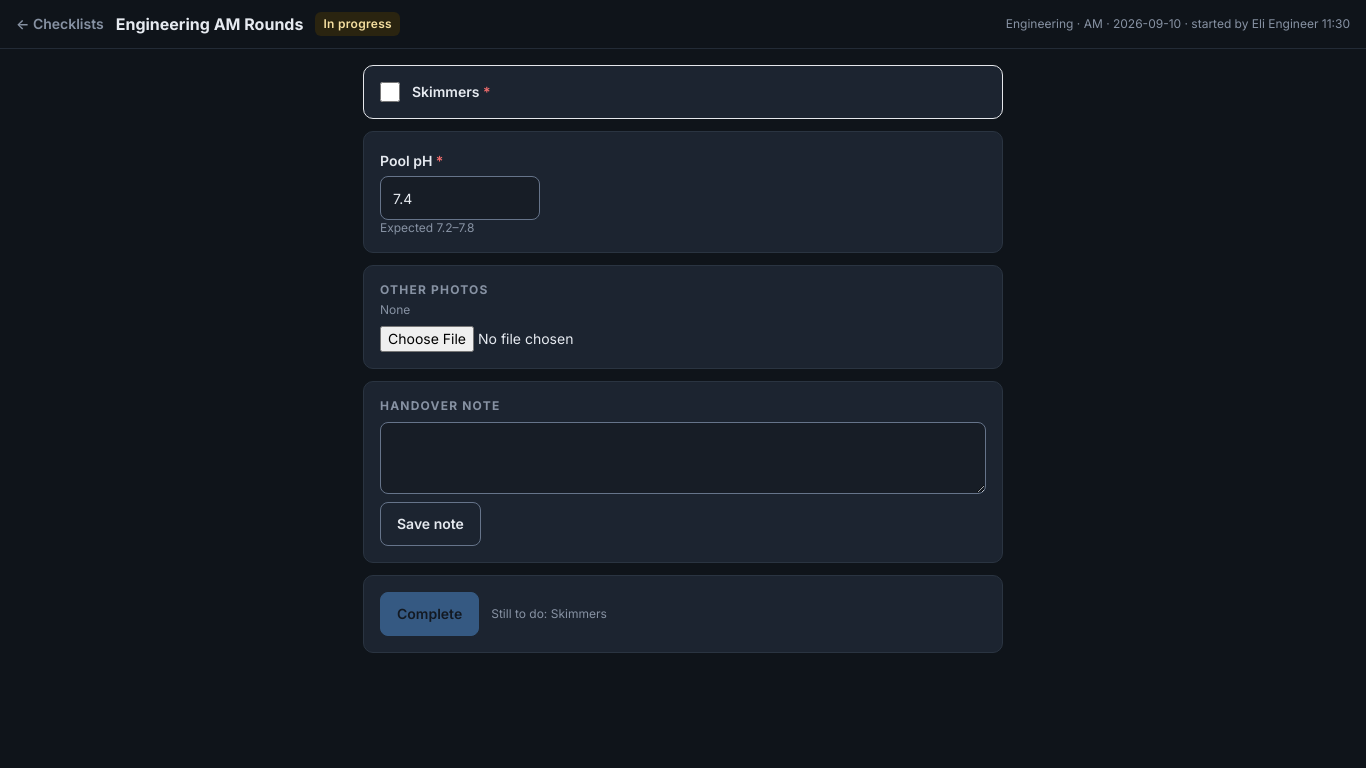
Test: ChecklistRunPage › shows a failed save inline
This screenshot has width=1366, height=768.
Click the checkbox labelled "Skimmers *".
click(390, 92)  # box [380,82,400,102]
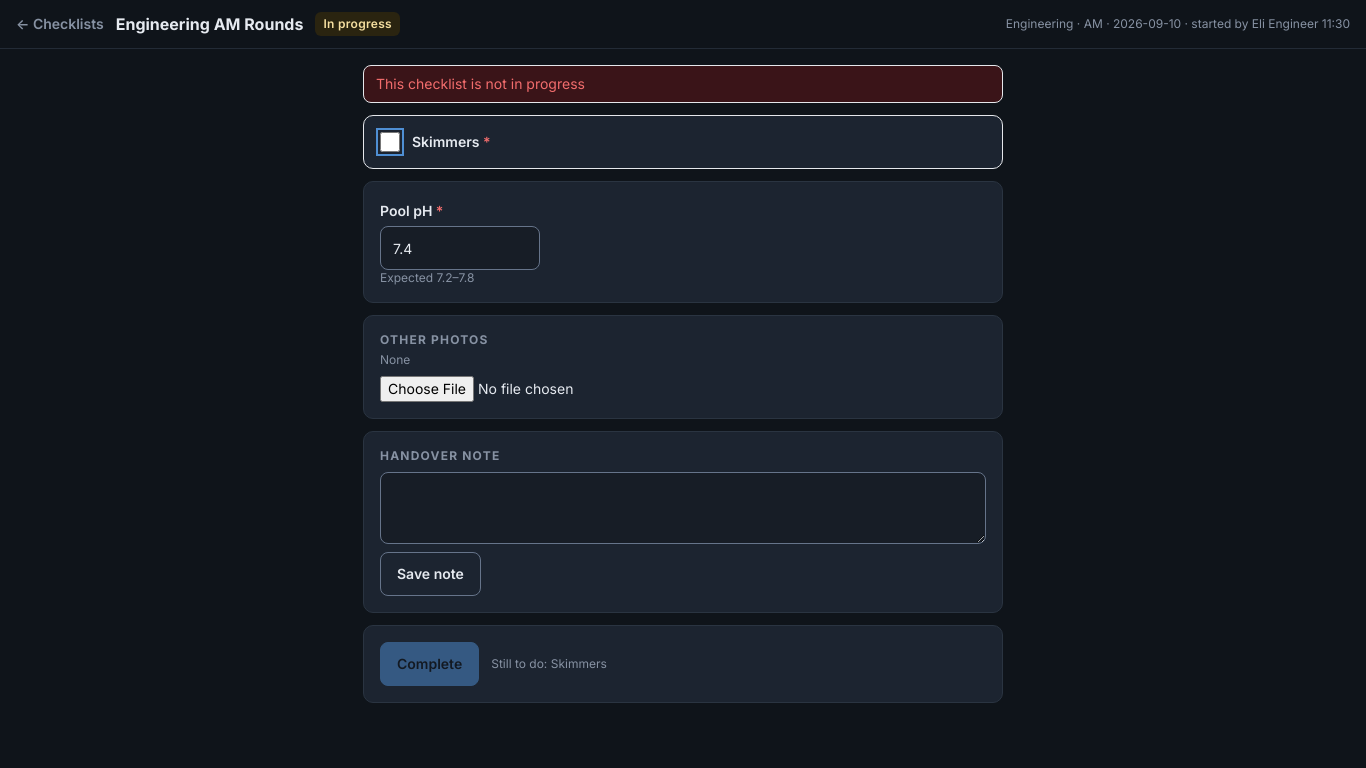
Check: the message reads "This checklist is not in progress", box [376,75,585,92]
